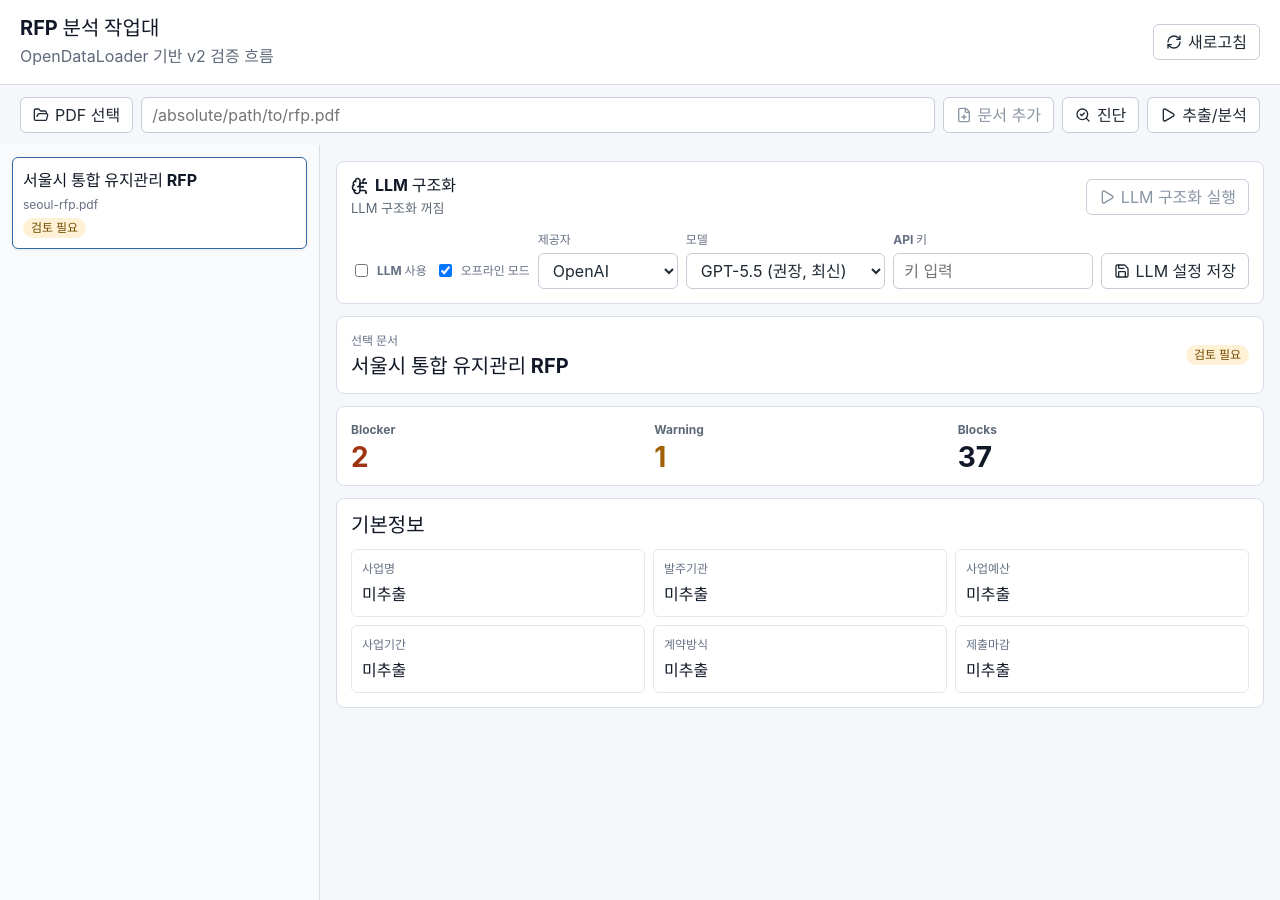
Test case: App › runs candidate analysis and renders project info and bundle counts
expect the heading "RFP 분석 작업대" is shown: met, box [20, 16, 159, 40]
What coordinates should you click on to do the following:
click the button "추출/분석"
I would click on:
 (1204, 115)
Its box is [1147, 97, 1260, 133].
(page scrolled)
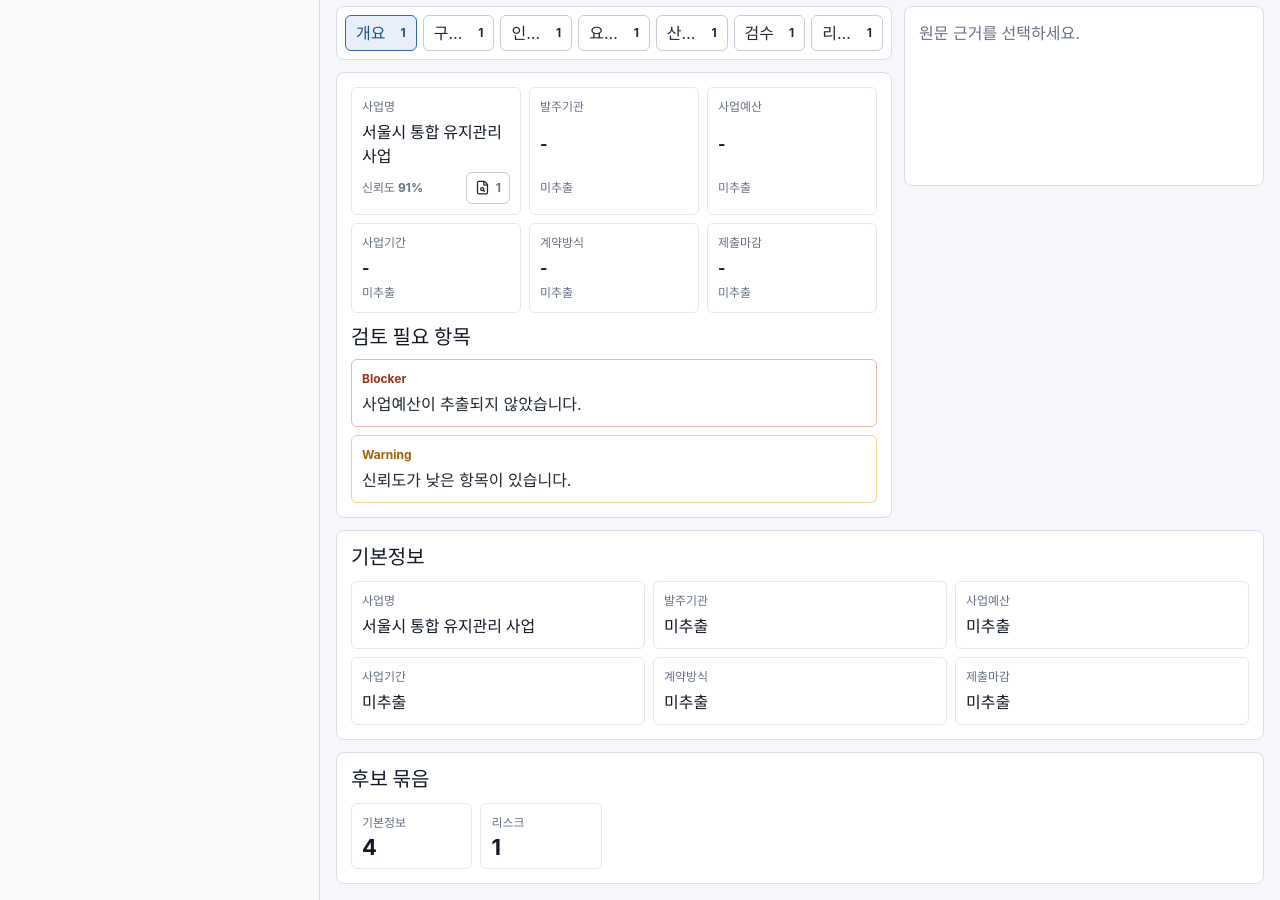
expect the text "4" is shown: met, box [362, 834, 377, 860]
